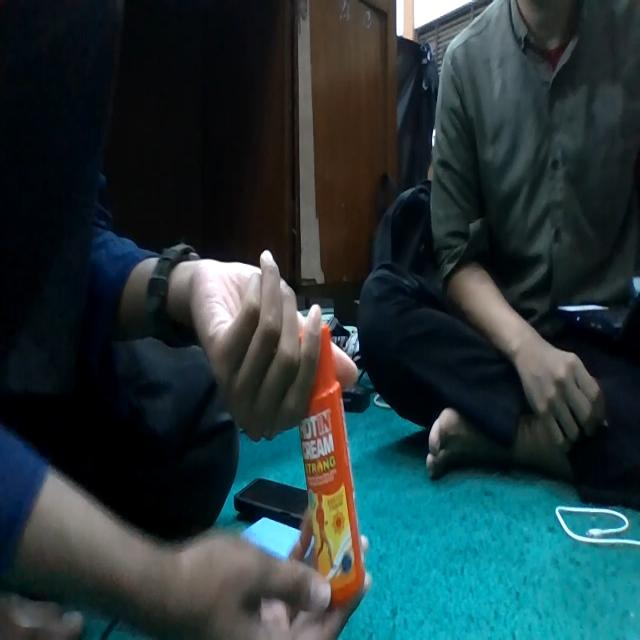Boncabe: (299, 324, 367, 606)
Powerbank: (242, 517, 300, 559)
